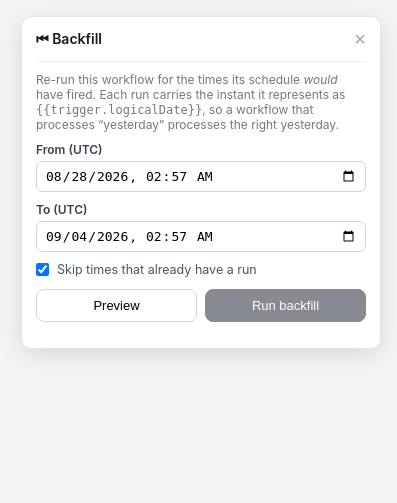
Test case: BackfillPanel › previews the window and shows the count prominently
Step 1. Click the button "Preview" → (116, 306), box [36, 289, 197, 322]
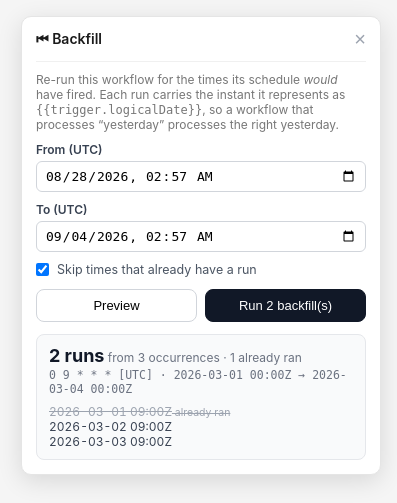
Expected: the text "2 runs from 3 occurrences · 1 already ran" is shown, [49, 345, 302, 366]
Expected: the text "from 3 occurrences · 1 already ran" is shown, [104, 350, 302, 365]
Expected: the text "0 9 * * * [UTC] · 2026-03-01 00:00Z → 2026-03-04 00:00Z" is shown, [49, 368, 353, 396]
